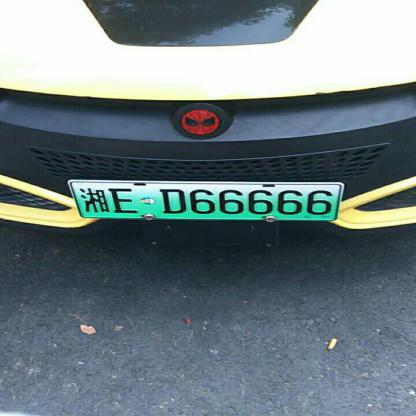lp: (71, 181, 340, 219)
